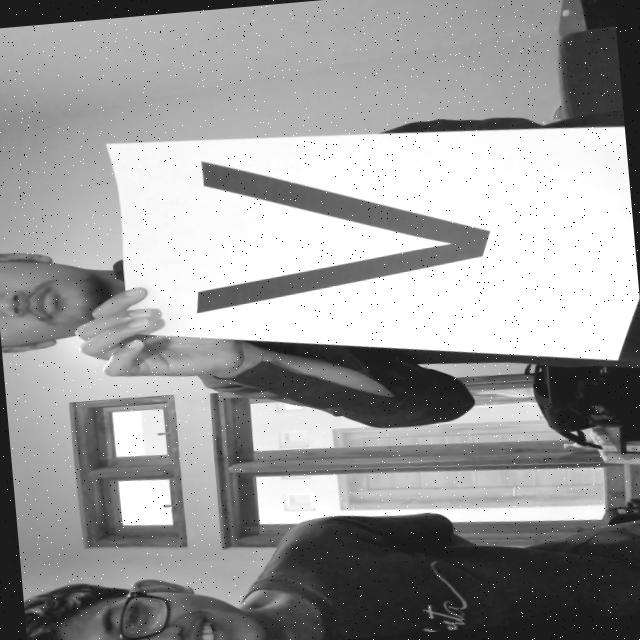v: (158, 126, 509, 322)
